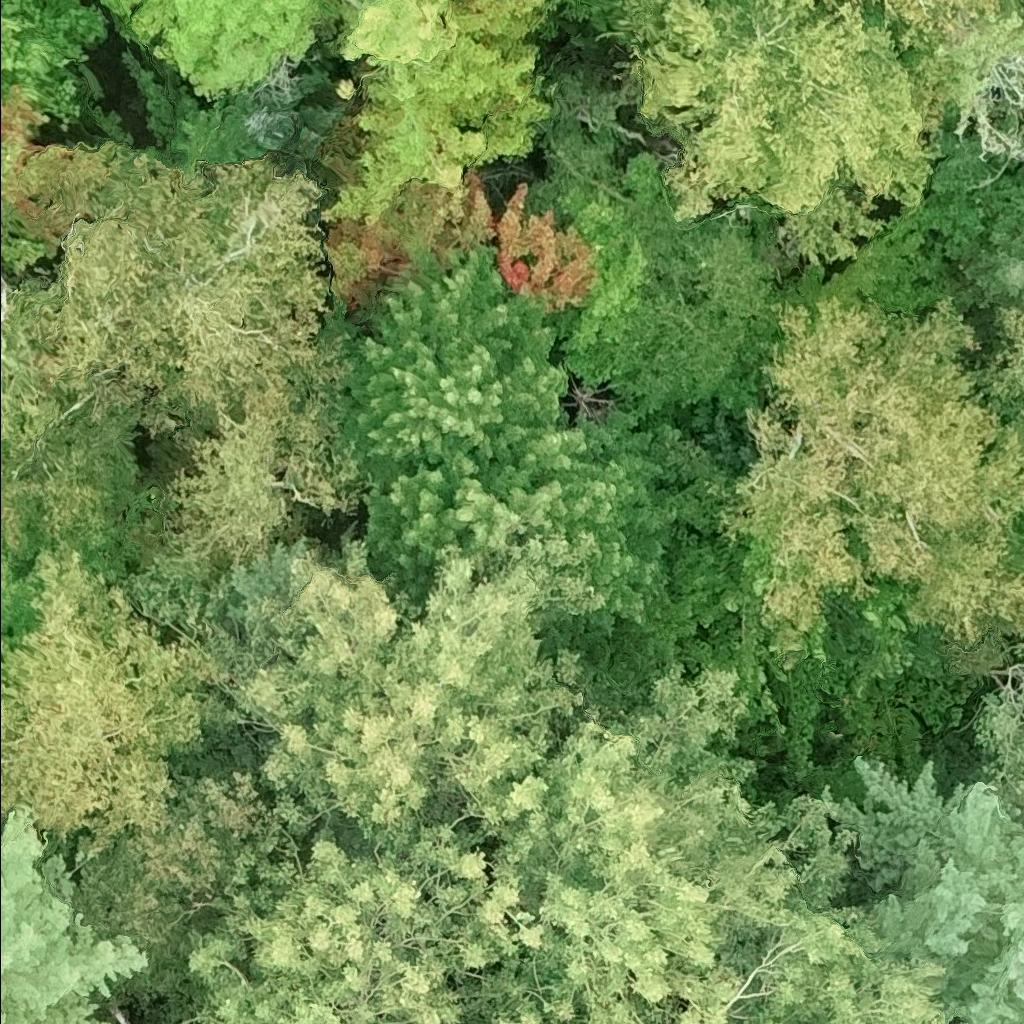crown: (443, 652, 839, 1023), (205, 523, 606, 853), (717, 291, 1023, 670), (29, 151, 360, 429), (170, 805, 579, 1023), (615, 0, 935, 264), (360, 406, 680, 632), (0, 538, 217, 855), (341, 240, 572, 489), (68, 760, 306, 994), (318, 0, 554, 228), (832, 747, 1023, 1023), (722, 831, 957, 1023), (158, 371, 373, 576), (321, 167, 600, 322), (0, 279, 145, 569), (0, 795, 153, 1023), (0, 79, 161, 270), (101, 0, 354, 105), (547, 152, 671, 351), (895, 0, 1023, 148), (0, 0, 110, 131), (240, 65, 344, 171), (967, 677, 1023, 818), (978, 306, 1023, 441), (954, 228, 1023, 315), (886, 0, 1004, 31), (0, 546, 38, 637), (0, 661, 25, 765), (1005, 635, 1023, 657), (549, 0, 577, 6)
